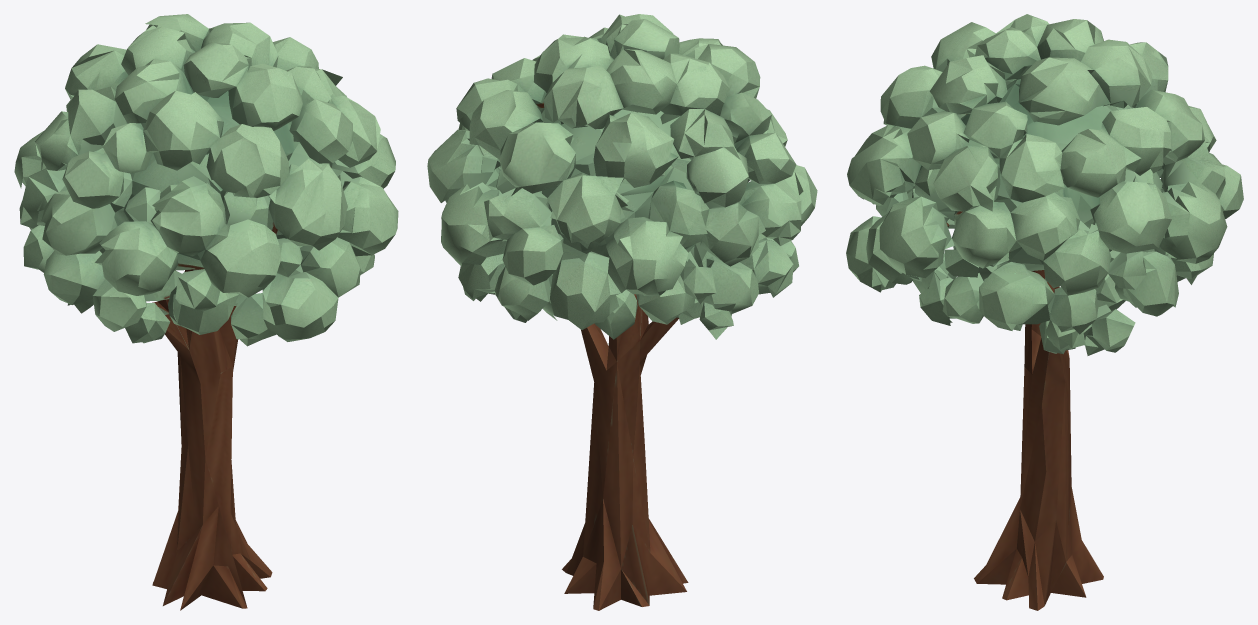
File: maple.glb
3 views of the same model, side by side, from view 1: azimuth 30°, elevation 25°; view 2: azimuth 150°, elevation 25°; view 3: azimuth 270°, elevation 25° (orthographic).
Size of the model in its own units: 1.22 by 1.9 by 1.25.
Materials: 1 (1 with a texture image).
